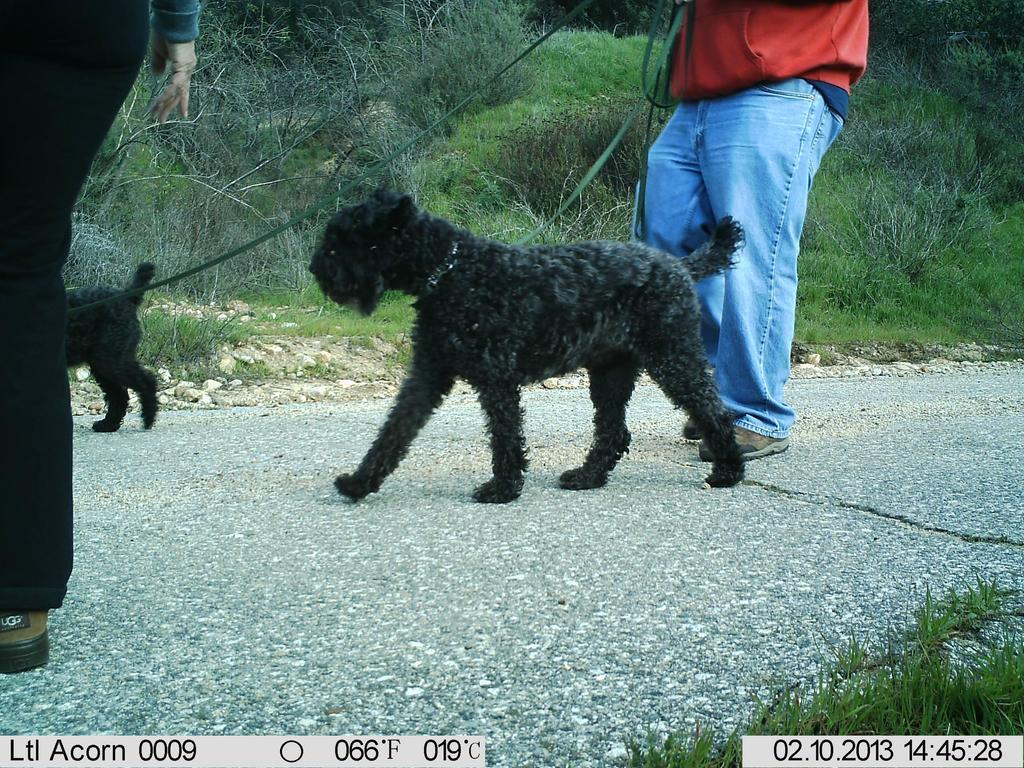dog: (310, 180, 762, 503), (23, 237, 197, 453)
